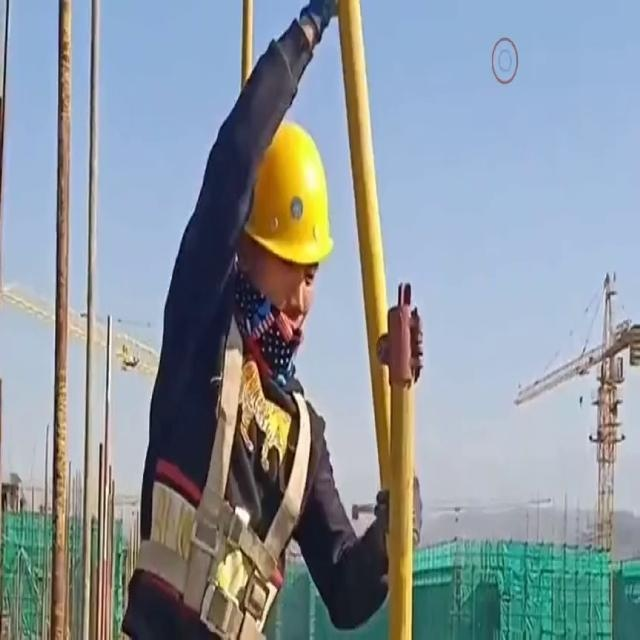Arnes_seguridad: (131, 295, 316, 639)
